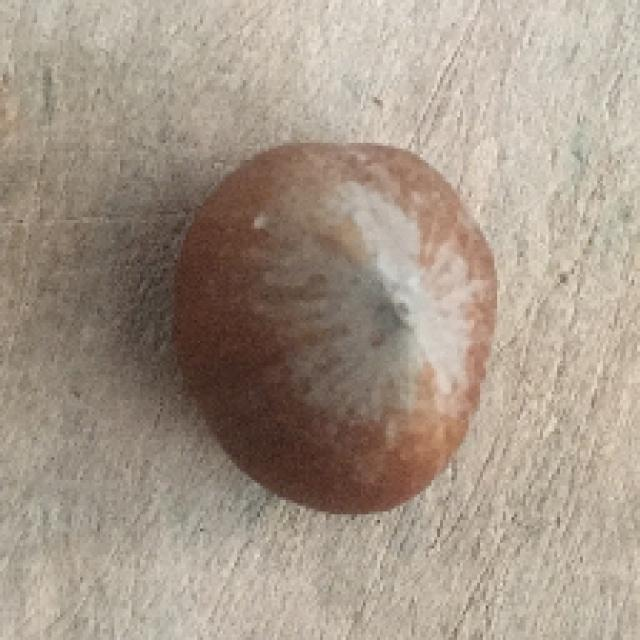QualityHazelnut: (173, 136, 499, 516)
